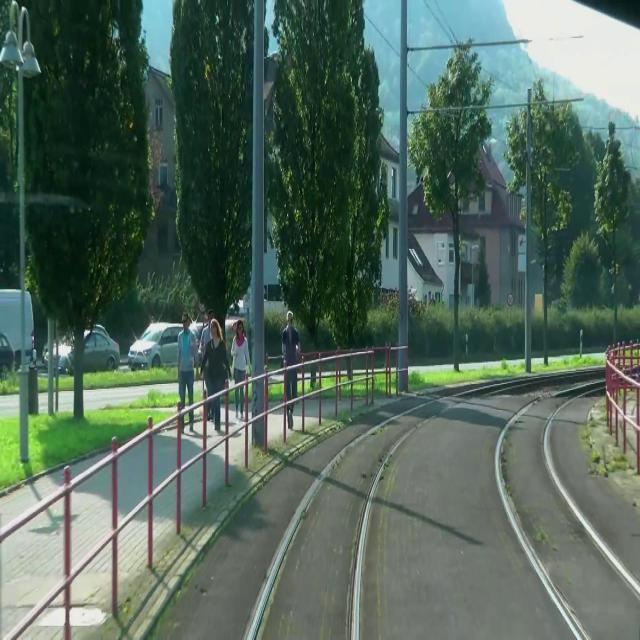rail: (205, 363, 607, 640)
